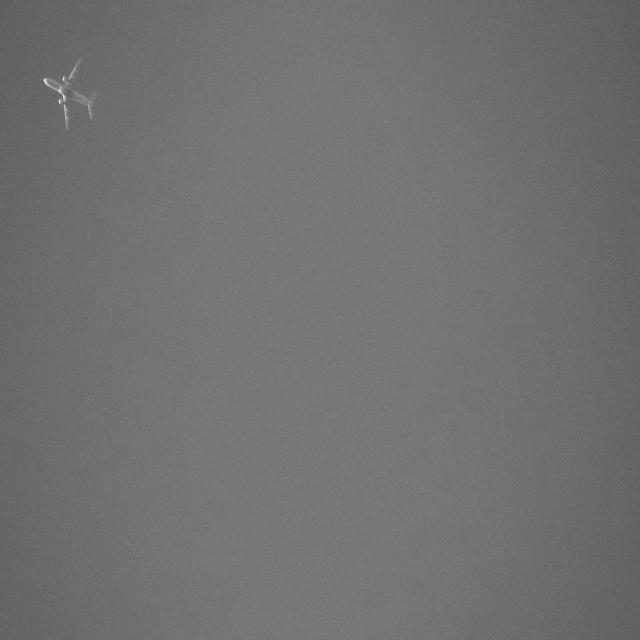aeroplane: (41, 55, 100, 133)
